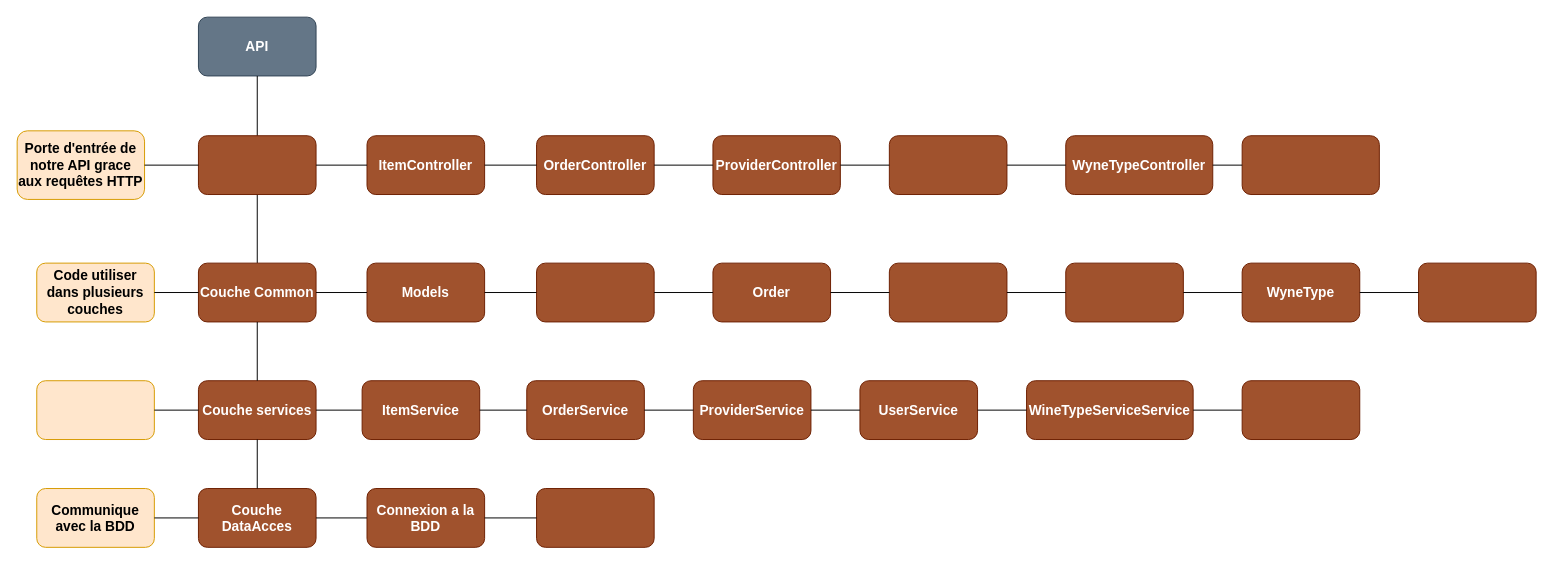
Some shapes in this 1553 by 564 pixel diagram are drawn without their labels. The shapes that lost their labels are listed below. From the top down, each one's centre as x and y in pixels, then its label:
At point (256, 165): "Controllers".
At point (947, 165): "UserController".
At point (1310, 165): "OrderItemController".
At point (595, 292): "Item".
At point (947, 292): "Provider".
At point (1124, 292): "User".
At point (1477, 292): "OrderItem".
At point (95, 410): "Logique métier".
At point (1300, 410): "OrderItemService".
At point (595, 517): "CRUD".
